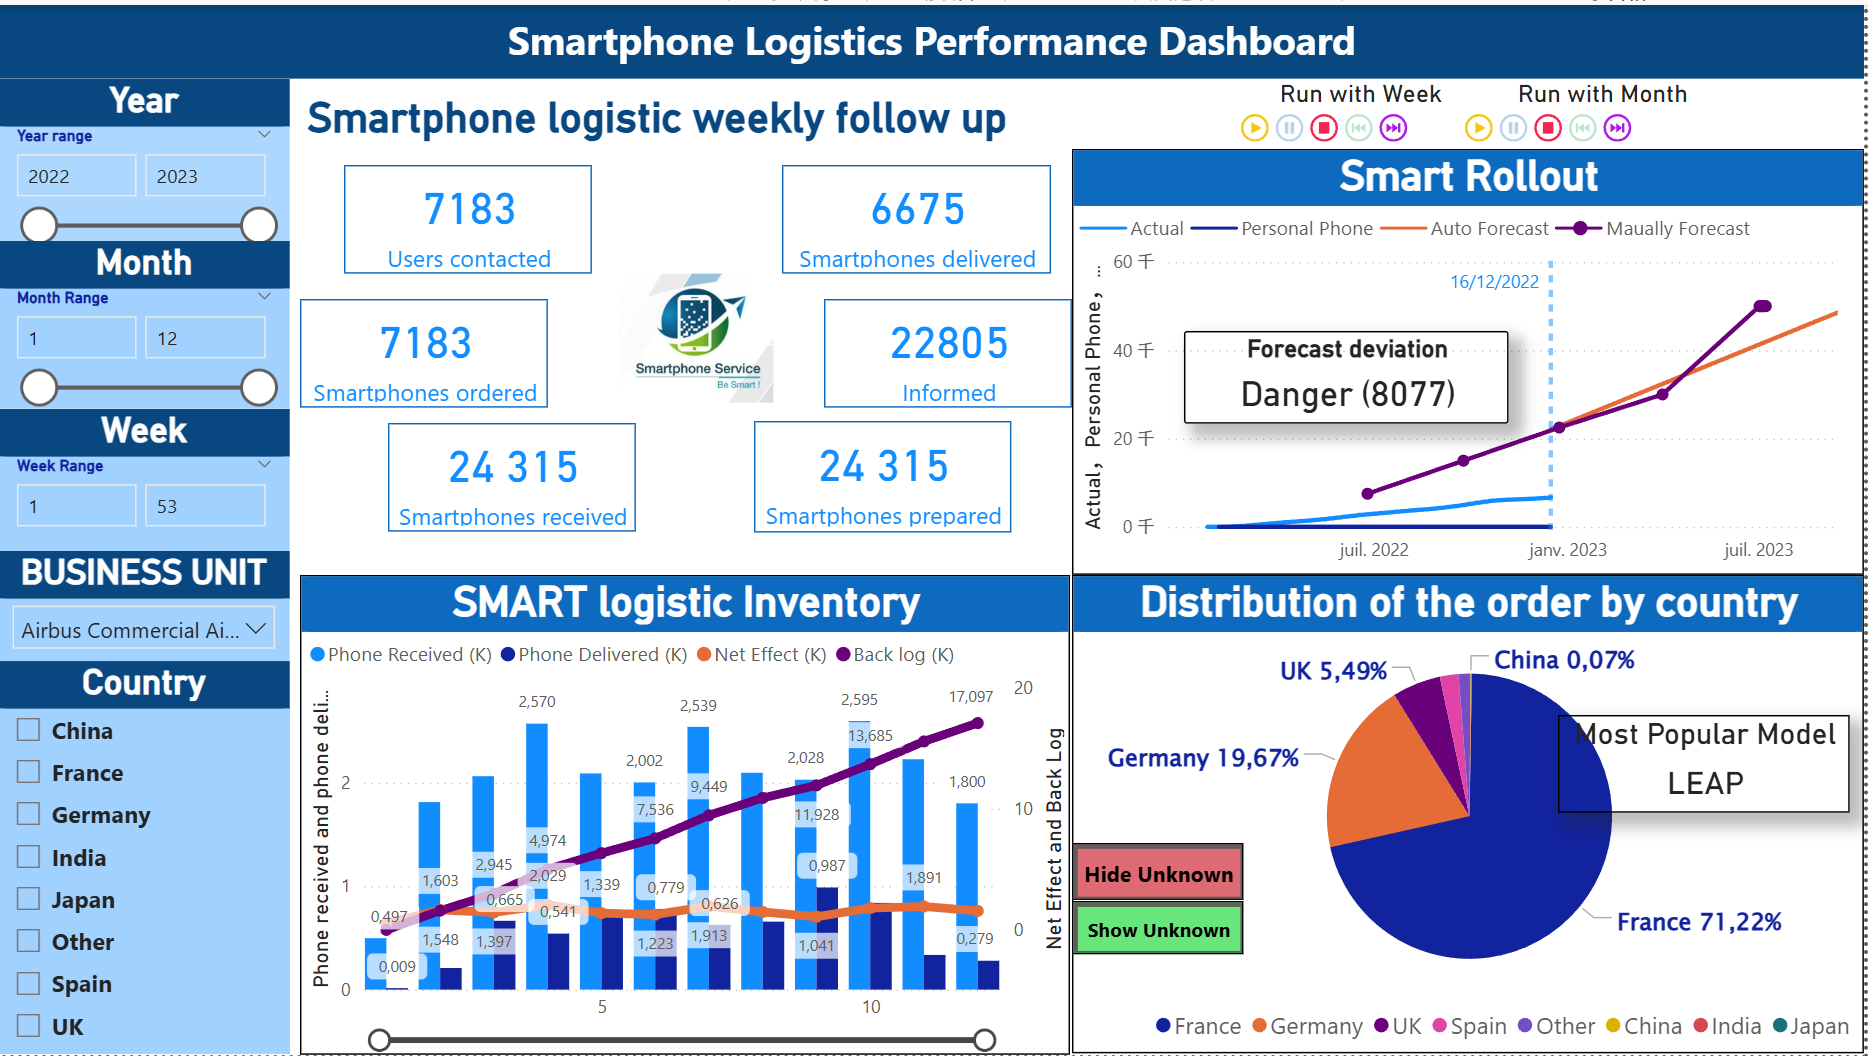

This screenshot's page, from the dashboard's own definition file:
{"tool":"powerbi","page":{"name":"KPI","canvas":[1280,720],"ordinal":0},"visuals":[{"type":"pieChart","title":"Distribution of the order by country","fields":{"Category":["COUNTRY.COUNTRY"],"Y":["CountNonNull(SELECTPHONE.MODEL)"]},"box":[736.5,390.9,543.1,327.8],"z":0},{"type":"actionButton","title":"Hide Unknown","box":[736.2,575,117.5,38.8],"z":1000},{"type":"actionButton","title":"Hide Unknown","box":[736.2,613.8,117.5,36.2],"z":2000},{"type":"lineChart","title":"Smart Rollout","fields":{"Y":["DELIVERY.ActualD","Sum(PERFORMANCE_MD (2).MYPHONE)","Sum(Auto forecast.Forecast)","Sum(Manully forecast.Forecast)"],"Category":["DateTable.Date.Variation.Date Hierarchy.Year","DateTable.Date.Variation.Date Hierarchy.Quarter","DateTable.Date.Variation.Date Hierarchy.Month","DateTable.Date.Variation.Date Hierarchy.Day"]},"box":[736.5,98.7,543.1,292.1],"z":3000},{"type":"slicer","title":"Country","fields":{"Values":["COUNTRY.COUNTRY"]},"box":[0,449.8,200.2,268.8],"z":4000},{"type":"textbox","box":[0,0,1280.9,49],"z":5000},{"type":"textbox","box":[207.1,54.5,529.4,43.9],"z":6000},{"type":"slicer","title":"Year","fields":{"Values":["DateTable.Year"]},"box":[0,50.7,200.2,115.2],"z":7000},{"type":"card","title":"Most Popular Model","fields":{"Values":["SELECTPHONE.Most Popular Model"]},"box":[1069.7,486.9,200.2,67.2],"z":7500},{"type":"slicer","title":"Month","fields":{"Values":["DateTable.Month Number"]},"box":[0,161.8,200.2,115.2],"z":8000},{"type":"slicer","title":"Week","fields":{"Values":["DateTable.Week Number"]},"box":[0,277,200.2,97.4],"z":9000},{"type":"lineClusteredColumnComboChart","title":"SMART logistic Inventory","fields":{"Category":["DateTable.Month Number"],"Y":["Sum(STOCK_IN.QTYrecv-IN-K)","DELIVERY.Phone delivered (K)"],"Y2":["DELIVERY.Net Effect (K)","DELIVERY.Back log (K)"]},"box":[207.1,390.9,528,329.1],"z":10000},{"type":"card","title":"Forecast deviation","fields":{"Values":["Auto forecast.Health Status with Diff"]},"box":[813.8,224.1,222.5,63.6],"z":12000},{"type":"card","fields":{"Values":["CountNonNull(CONTACT.CONTACTED_ON)"]},"box":[249,108,170,75],"z":15000},{"type":"card","fields":{"Values":["CountNonNull(APPOINTEMENT.APOINTMENT_SCHEDULED_ON)"]},"box":[557,198,170,75],"z":16000},{"type":"card","fields":{"Values":["Sum(STOCK_OUT.QTYPREPARED)"]},"box":[524,288,176,77],"z":17000},{"type":"card","fields":{"Values":["Sum(STOCK_IN.QTYRECEIVED)"]},"box":[256,288,170,75],"z":18000},{"type":"card","fields":{"Values":["CountNonNull(DELIVERY.DELIVERY_DATE)"]},"box":[517,107,185,75],"z":19000},{"type":"card","fields":{"Values":["CountNonNull(SELECTPHONE.SMARTPHONE_SELECTED_ON)"]},"box":[219,200,170,75],"z":20000},{"type":"image","box":[411,179,118,119],"z":21000},{"type":"slicer","title":"BUSINESS UNIT","fields":{"Values":["BUSINESS_UNIT.BUSINESS_UNIT"]},"box":[0,374.4,200.2,75.4],"z":22000},{"type":"PBI_CV_16948668_E17D_454B_8664_2F2C470EA8C1","fields":{"category":["DateTable.Week Number"]},"box":[847.8,50,174.4,48.5],"z":22500},{"type":"PBI_CV_16948668_E17D_454B_8664_2F2C470EA8C1","title":"Run with Month","fields":{"category":["DateTable.Date.Variation.Date Hierarchy.Month"]},"box":[1001.1,50.7,198.9,48],"z":23000}]}

Visuals, with their boxes in screenshot pixels (x1, y1, x2, y2), scaled from the page's 1280x720 canvas onto the 1868x1056 screenshot:
"Distribution of the order by country" pieChart: (1075, 573, 1867, 1054)
"Hide Unknown" actionButton: (1074, 843, 1246, 900)
"Hide Unknown" actionButton: (1074, 900, 1246, 953)
"Smart Rollout" lineChart: (1075, 145, 1867, 573)
"Country" slicer: (0, 660, 292, 1054)
textbox: (0, 0, 1867, 72)
textbox: (302, 80, 1075, 144)
"Year" slicer: (0, 74, 292, 243)
"Most Popular Model" card: (1561, 714, 1853, 813)
"Month" slicer: (0, 237, 292, 406)
"Week" slicer: (0, 406, 292, 549)
"SMART logistic Inventory" lineClusteredColumnComboChart: (302, 573, 1073, 1055)
"Forecast deviation" card: (1188, 329, 1512, 422)
card - CountNonNull(CONTACT.CONTACTED_ON): (363, 158, 611, 268)
card - CountNonNull(APPOINTEMENT.APOINTMENT_SCHEDULED_ON): (813, 290, 1061, 400)
card - Sum(STOCK_OUT.QTYPREPARED): (765, 422, 1022, 535)
card - Sum(STOCK_IN.QTYRECEIVED): (374, 422, 622, 532)
card - CountNonNull(DELIVERY.DELIVERY_DATE): (754, 157, 1024, 267)
card - CountNonNull(SELECTPHONE.SMARTPHONE_SELECTED_ON): (320, 293, 568, 403)
image: (600, 263, 772, 437)
"BUSINESS UNIT" slicer: (0, 549, 292, 660)
PBI_CV_16948668_E17D_454B_8664_2F2C470EA8C1 - DateTable.Week Number: (1237, 73, 1492, 144)
"Run with Month" PBI_CV_16948668_E17D_454B_8664_2F2C470EA8C1: (1461, 74, 1751, 145)
